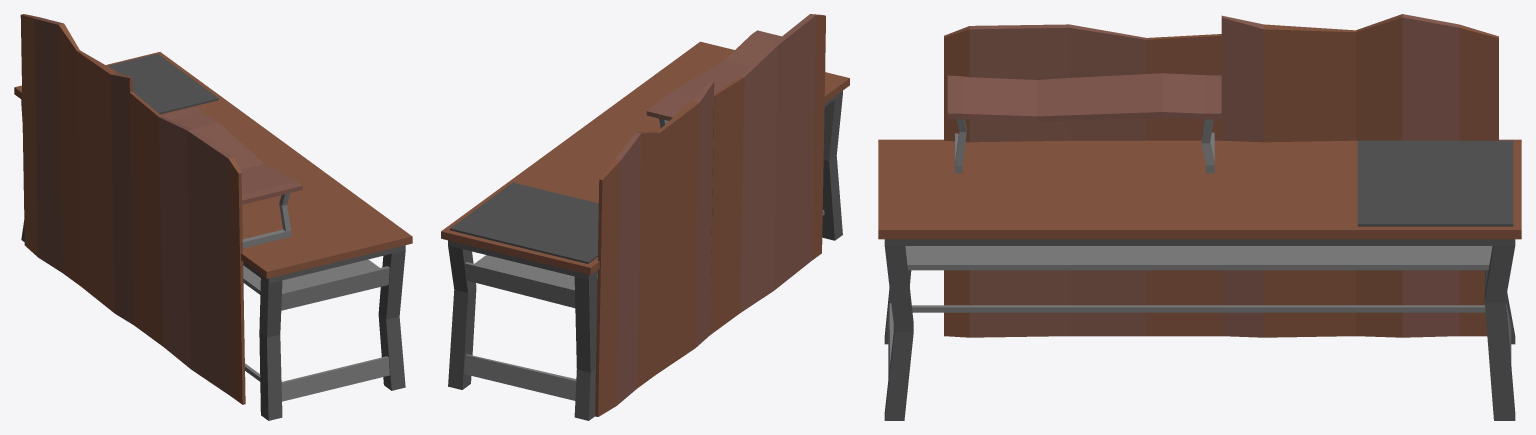
Rendered from WeapomSmith.fbx.
The picture shows the model from 3 angles, left to right: view 1: azimuth 30°, elevation 25°; view 2: azimuth 150°, elevation 25°; view 3: azimuth 270°, elevation 25°; orthographic projection. The views are drawn at different scales.
Parts seen in each view (by area): view 1: Cube; view 2: Cube; view 3: Cube.
Boxes of the visible parts, x1,y1,x2,y2 form: Cube: (14,14,412,420); Cube: (441,14,849,420); Cube: (878,14,1521,420).
Size of the model in its own units: 207 by 327 by 600.
